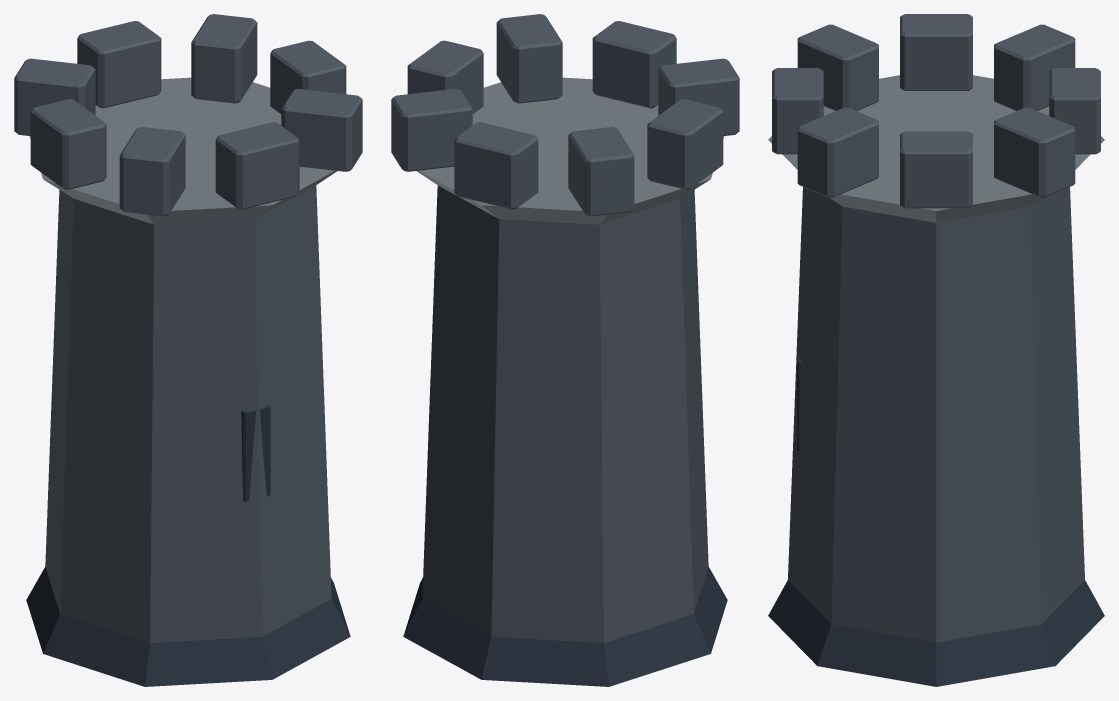
Rendered from watchtower.glb.
The picture shows the model from 3 angles, left to right: view 1: azimuth 30°, elevation 25°; view 2: azimuth 150°, elevation 25°; view 3: azimuth 270°, elevation 25°; orthographic projection.
Visible parts, largest first — view 1: watchtower__body; view 2: watchtower__body; view 3: watchtower__body.
Boxes of the visible parts, left/top/right/bottom form: watchtower__body: left=14, top=14, right=362, bottom=686; watchtower__body: left=391, top=14, right=739, bottom=686; watchtower__body: left=768, top=14, right=1104, bottom=686.
Bounding box in the file's own units: 1.7 × 2.97 × 1.7.
